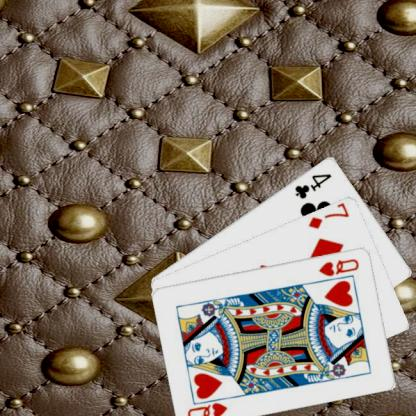4C: (292, 171, 333, 200)
7D: (305, 201, 351, 230)
QH: (184, 393, 233, 416), (316, 255, 361, 278)
